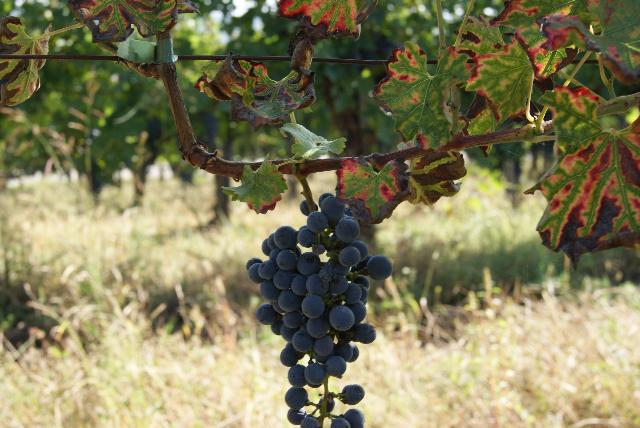grapes: (246, 194, 392, 428)
